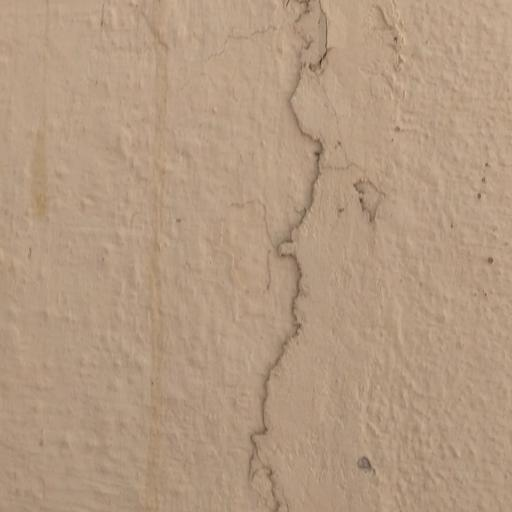minor_crack: (242, 0, 354, 512)
